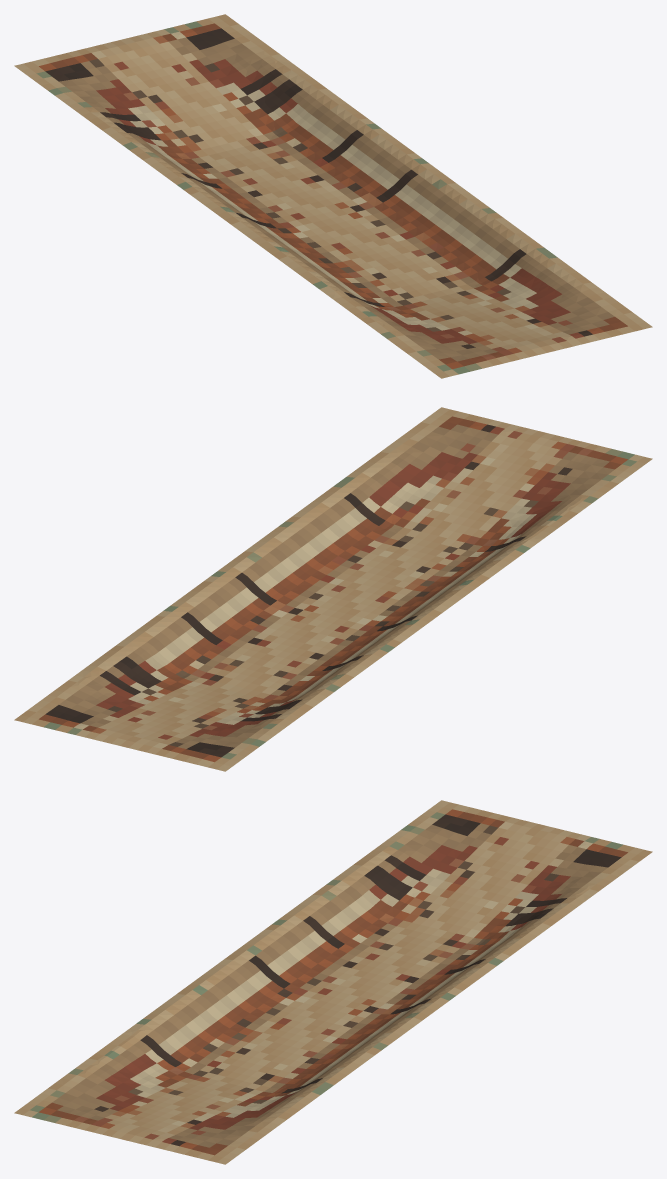
File: liner_mesa_spill.glb
3 renders of one model, top to bottom at view 1: azimuth 30°, elevation 25°; view 2: azimuth 150°, elevation 25°; view 3: azimuth 330°, elevation 25°, orthographic.
Parts seen in each view (by area): view 1: liner_mesa_spill_body; view 2: liner_mesa_spill_body; view 3: liner_mesa_spill_body.
Part boxes in pixels (<box>): liner_mesa_spill_body: <box>14,14,652,378</box>; liner_mesa_spill_body: <box>14,407,652,771</box>; liner_mesa_spill_body: <box>14,800,652,1164</box>.
Bounding box in the file's own units: 36 × 4.19 × 126.
